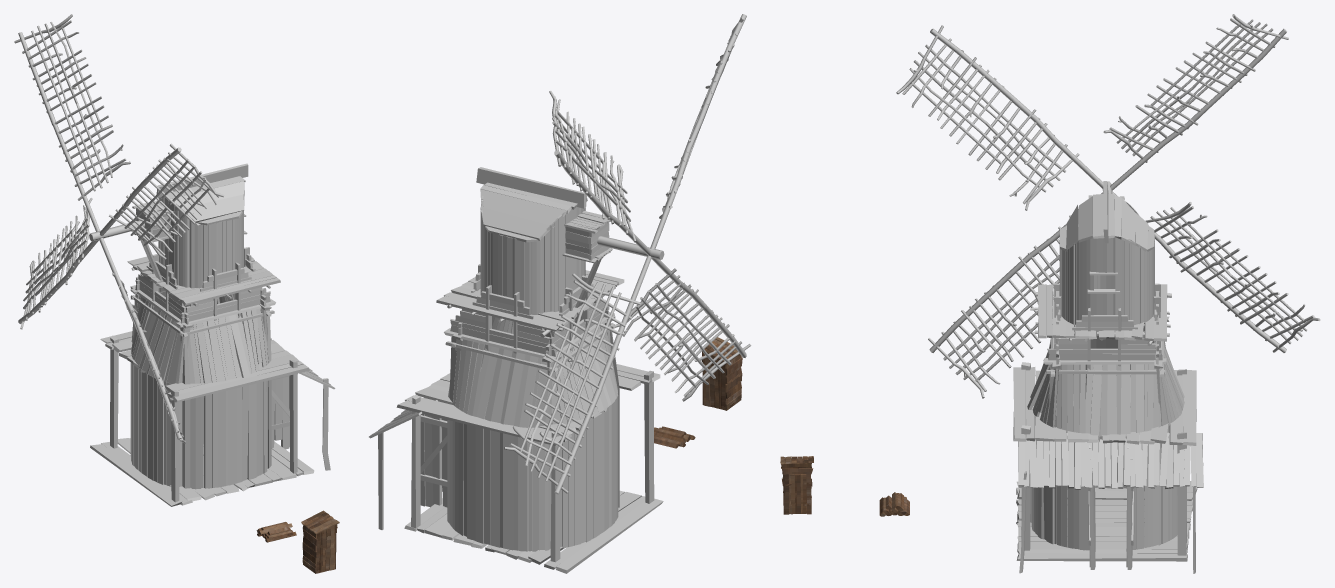
File: Wooden structures.fbx
The picture shows the model from 3 angles, left to right: view 1: azimuth 30°, elevation 25°; view 2: azimuth 150°, elevation 25°; view 3: azimuth 270°, elevation 25°; orthographic projection. The views are drawn at different scales.
Parts seen in each view (by area): view 1: windmill, Old Wooden Storehouse, LogS; view 2: windmill, Old Wooden Storehouse, LogS; view 3: windmill, Old Wooden Storehouse.
Boxes of the visible parts, box(x1,y1,x2,y2) form: windmill: box(14, 14, 335, 506); Old Wooden Storehouse: box(301, 510, 339, 573); LogS: box(256, 522, 296, 542); windmill: box(369, 14, 750, 573); Old Wooden Storehouse: box(700, 337, 742, 410); LogS: box(654, 426, 695, 448); windmill: box(896, 14, 1320, 573); Old Wooden Storehouse: box(780, 456, 813, 514).
Bounding box in the file's own units: 976 × 1915 × 1989.
